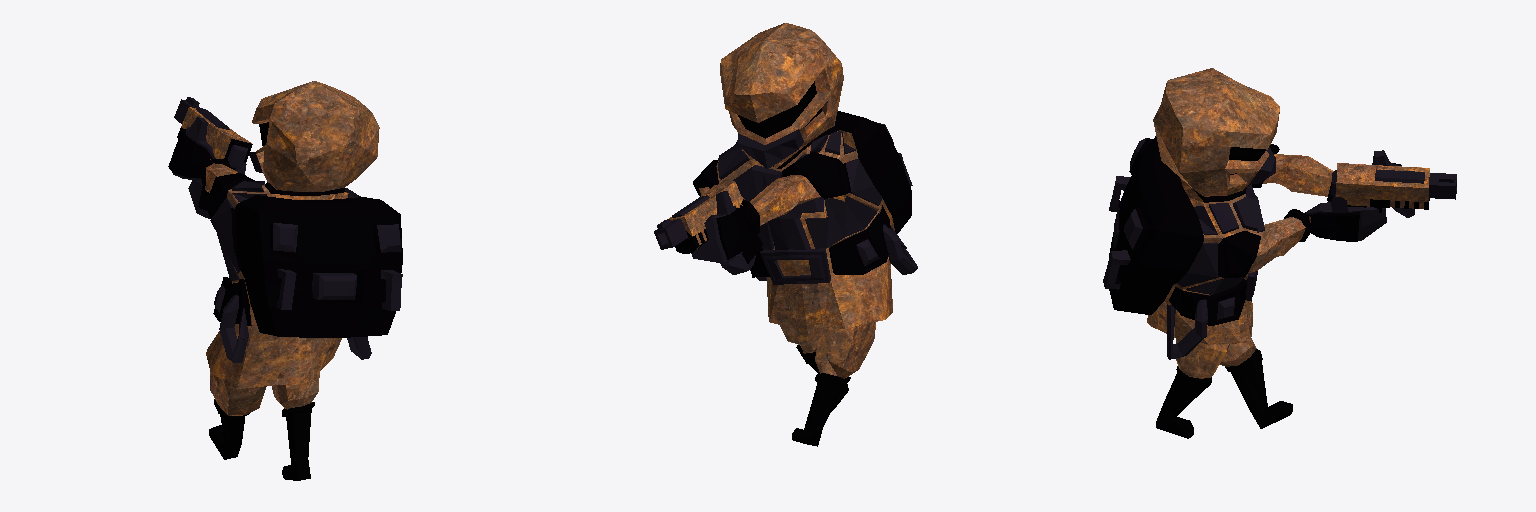
3 renders of one model, left to right at view 1: azimuth 30°, elevation 25°; view 2: azimuth 150°, elevation 25°; view 3: azimuth 270°, elevation 25°, orthographic.
Parts seen in each view (by area): view 1: Cube; view 2: Cube; view 3: Cube.
Boxes of the visible parts, x1,y1,x2,y2 form: Cube: [168, 81, 402, 480]; Cube: [654, 23, 917, 446]; Cube: [1103, 68, 1456, 438].
Bounding box in the file's own units: 1.04 × 2.11 × 1.8.
5 materials, 1 textured.